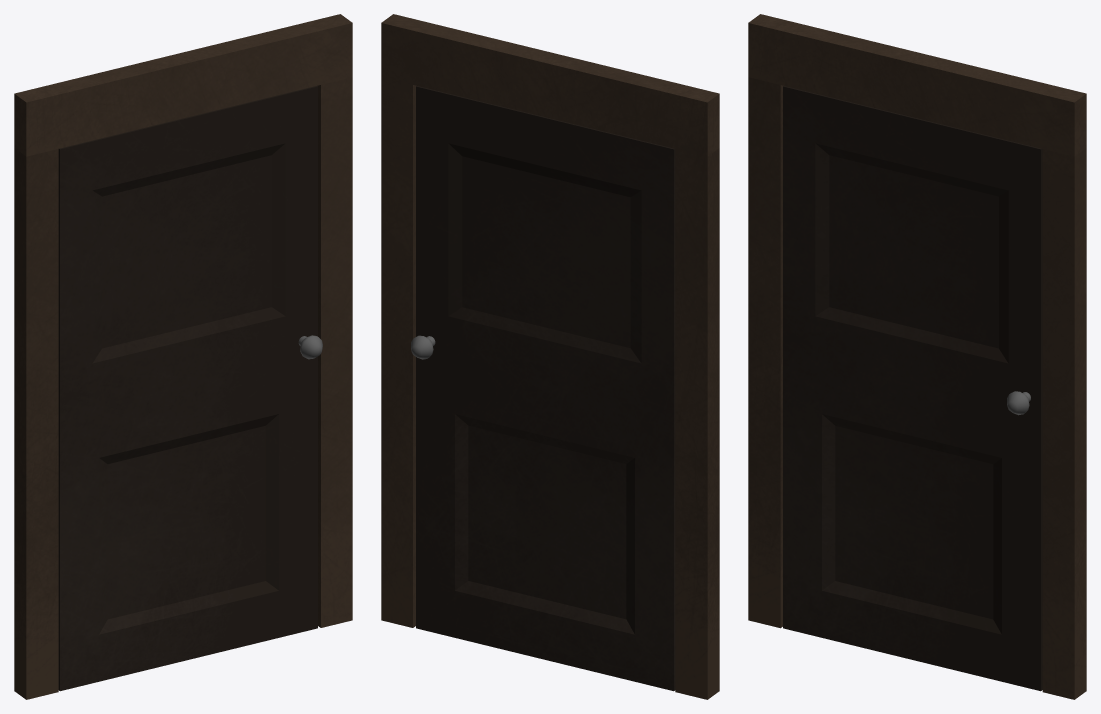
3 views of the same model, side by side, from view 1: azimuth 30°, elevation 25°; view 2: azimuth 150°, elevation 25°; view 3: azimuth 330°, elevation 25° (orthographic).
Visible parts, largest first — view 1: marco1; view 2: marco1; view 3: marco1.
Part boxes in pixels (x1,y1,x2,y2): marco1: (14,14,352,699); marco1: (381,14,719,699); marco1: (748,14,1086,699).
Bounding box in the file's own units: 8 × 14 × 1.72.
Materials: 1 (1 with a texture image).
